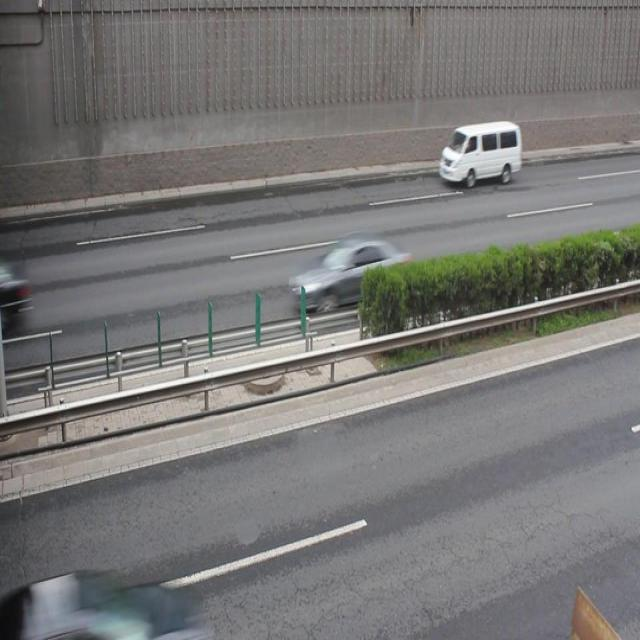car: (24, 569, 187, 640), (289, 240, 410, 308)
truck: (440, 122, 520, 185)
